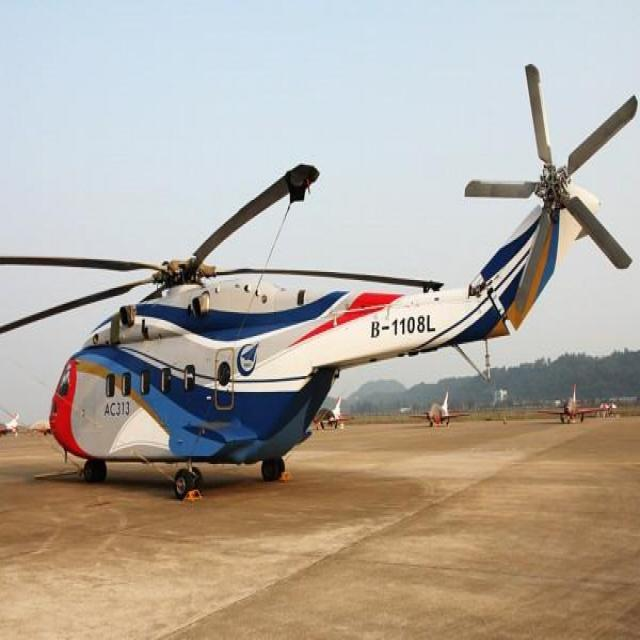MIL_HELO: (23, 55, 635, 505)
